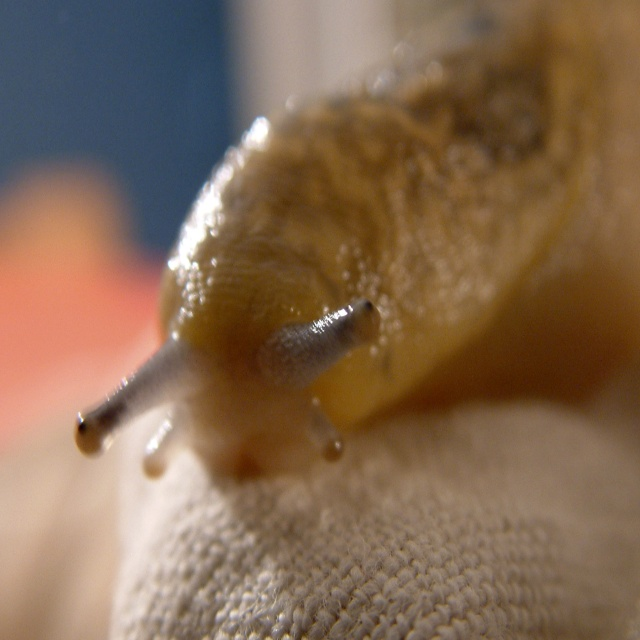Snail: (68, 0, 640, 501)
